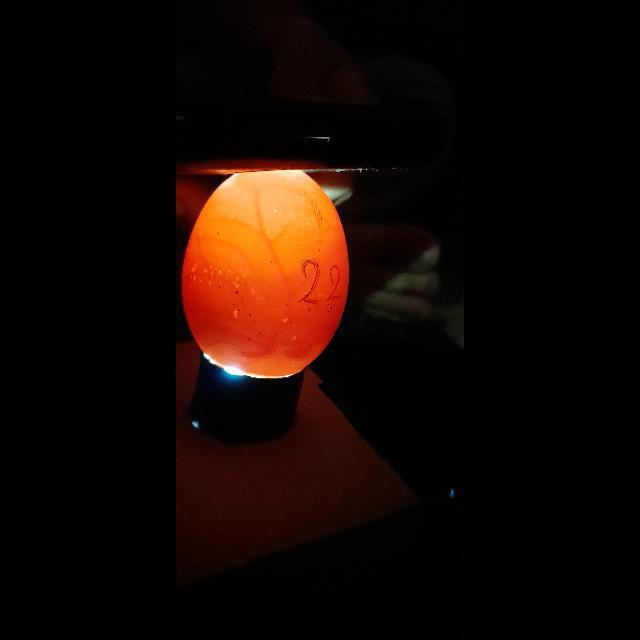Fertile: (178, 172, 354, 380)
